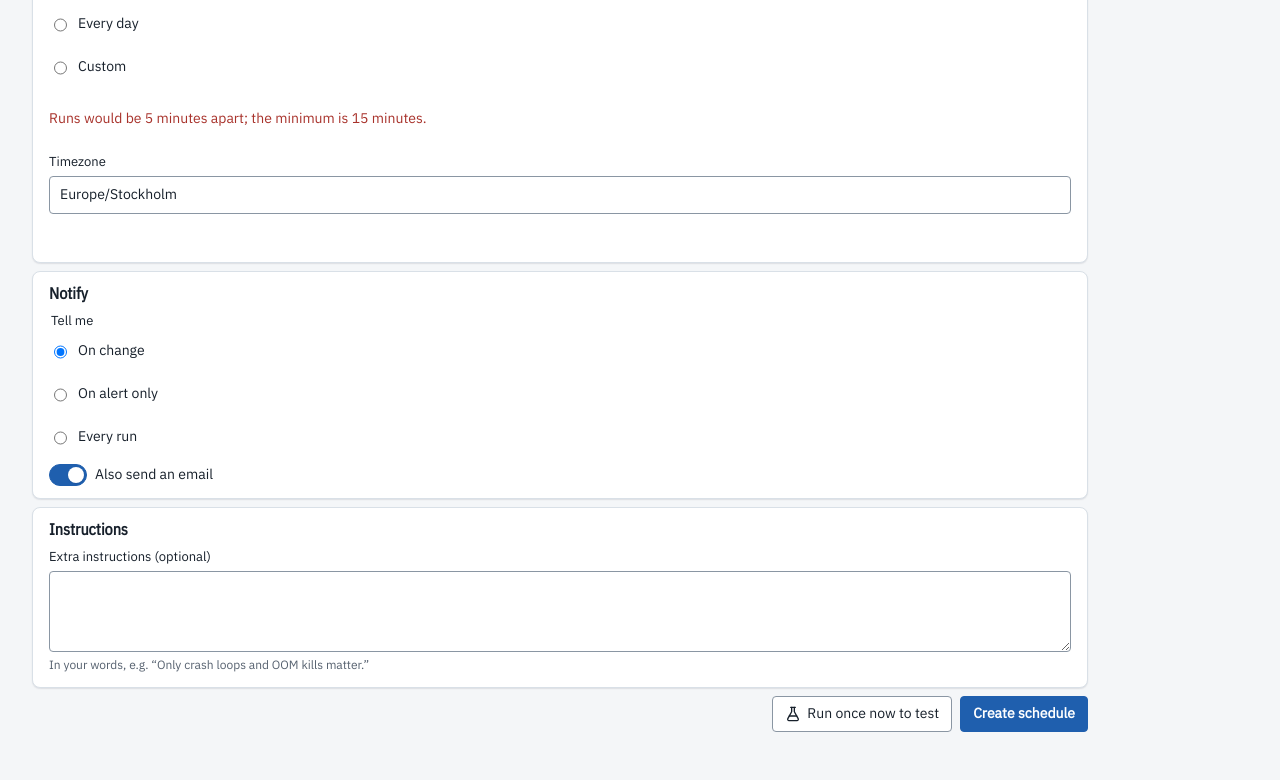
Test: Schedules (07 §4.7) › shows server field errors, missing credentials, and a test run in a drawer
(page scrolled)
Check: the text "Runs would be 5 minutes apart; the minimum is 15 minutes." is shown, box [49,109,427,127]
Click the button "Create schedule" at (1024, 714), box [960,696,1088,732]
(page scrolled)
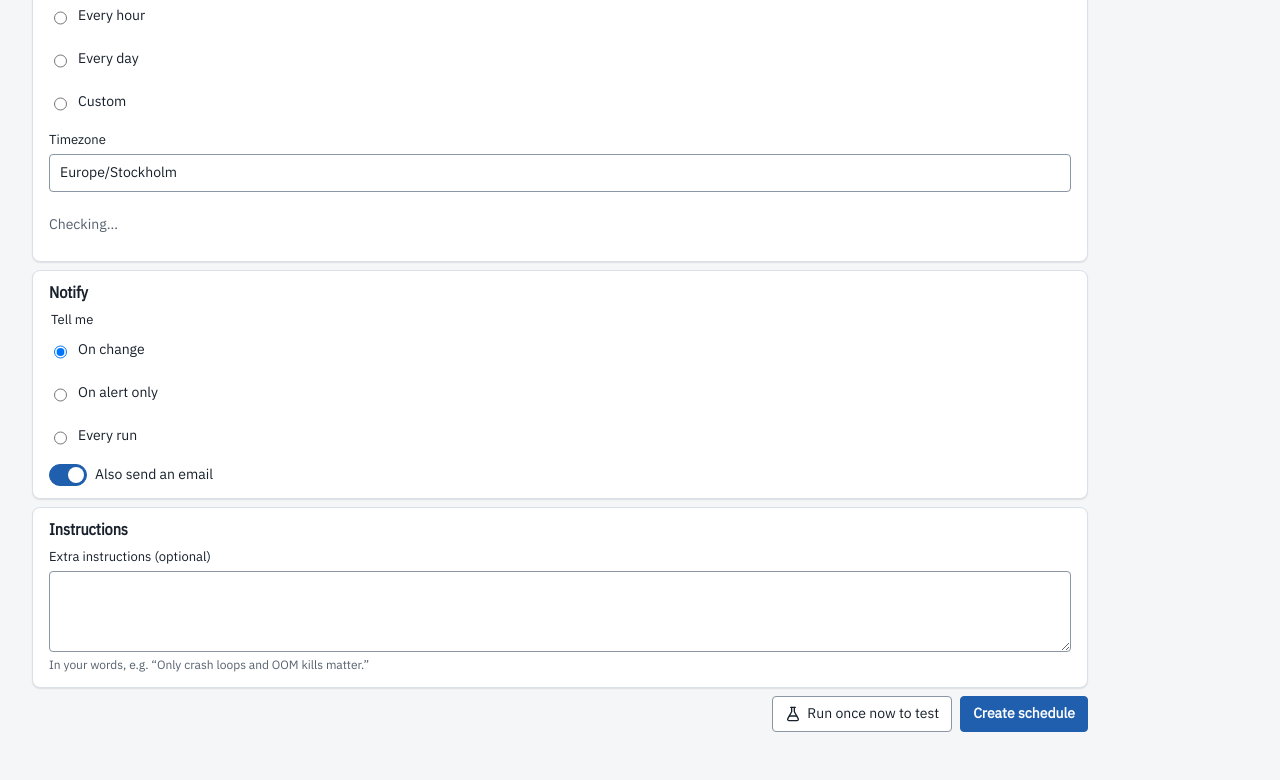
Click the button "Run once now to test" at (862, 714), box [772,696,952,732]
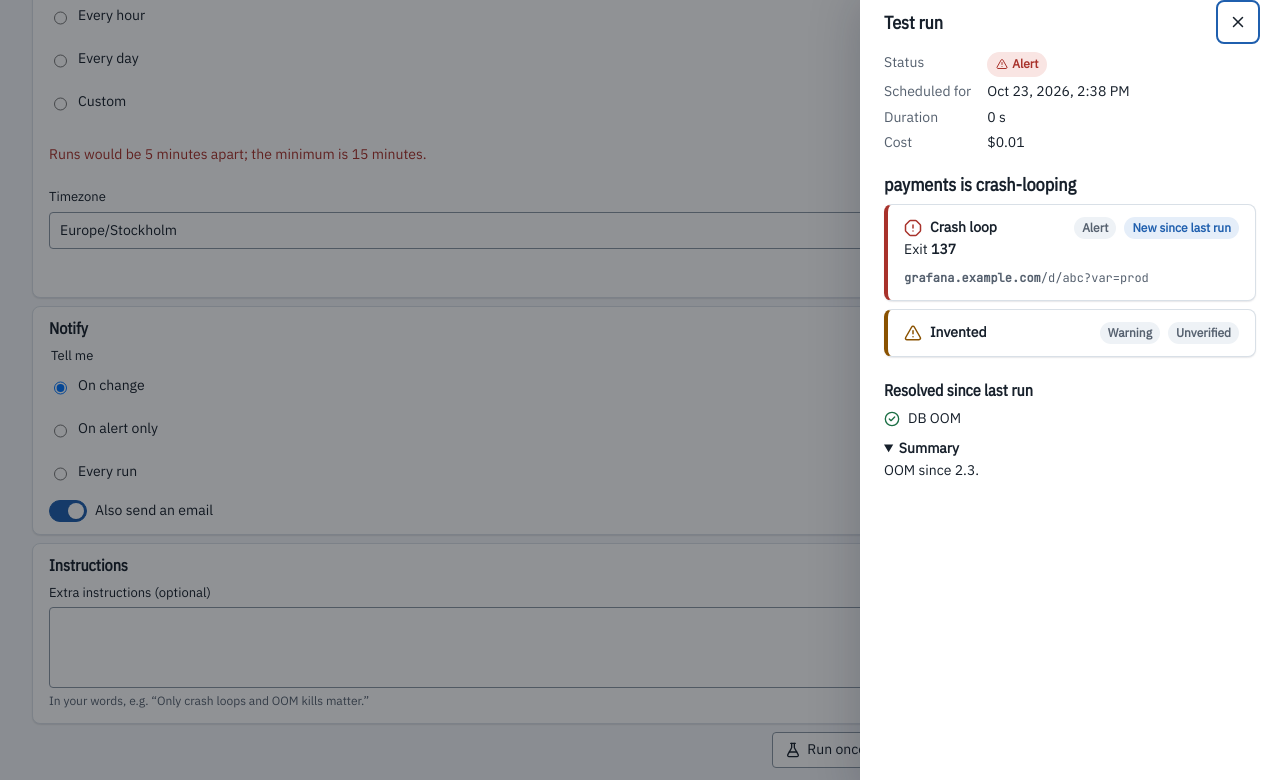
Check: the heading "payments is crash-looping" is shown, box [884,173,1076,196]
